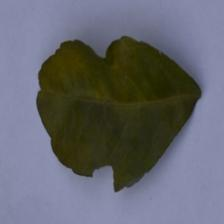greening: (35, 54, 87, 116)
